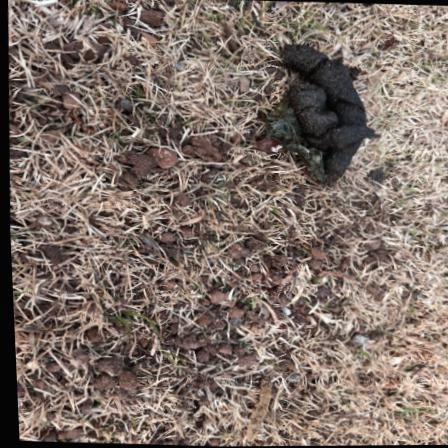dog-poop: (261, 44, 371, 174)
